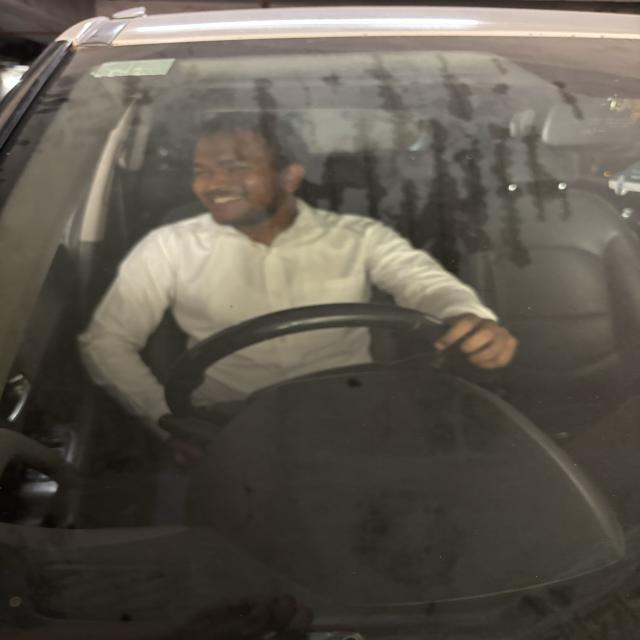no-seatbelt: (155, 220, 380, 362)
